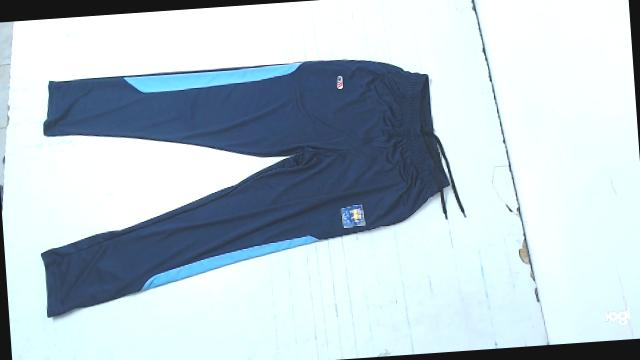new-garment: (41, 60, 453, 316)
